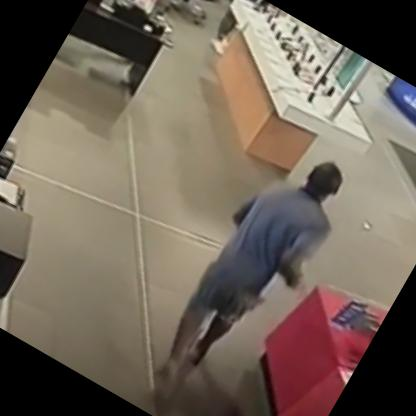Human Body: (131, 123, 371, 415)
